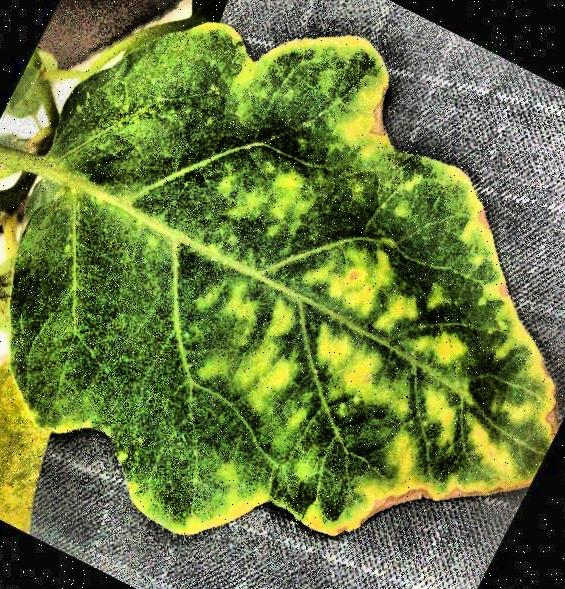Non-critical Stress: (0, 1, 565, 589)
